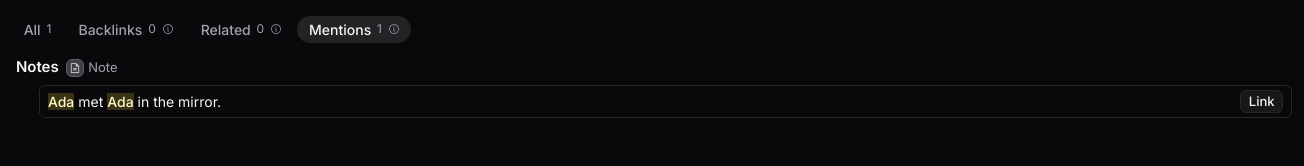
MentionsTab: a mention reads as text and a line is listed once (M33) › if the file changes between the two, the first stays linked, nothing is guessed, and the row is offered again
Expected: the text "Notes" is shown, [16,56,59,79]
Click the button "Link" at (1262, 101), box [1240,90,1283,113]
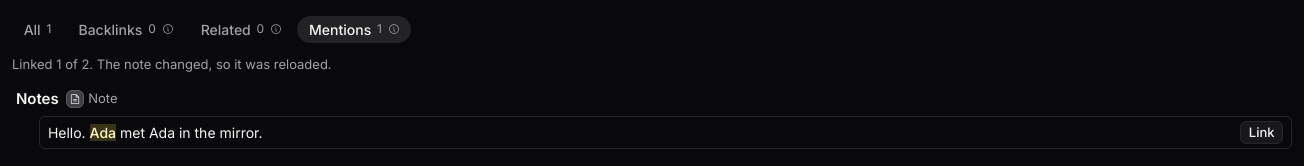
Expected: the button "Link" is enabled, [1240,121,1283,144]
Expected: the message reads "Linked 1 of 2. The note changed, so it was reloaded.", [12,56,332,72]
Expected: the element with class "search-highlights" reads "Hello. Ada met Ada in the mirror.", [48,124,262,141]
